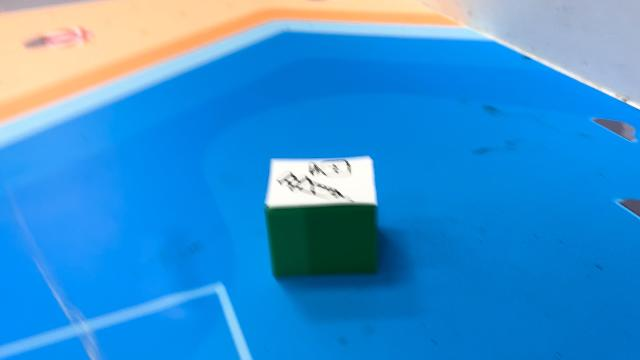syringe: (264, 158, 382, 282)
